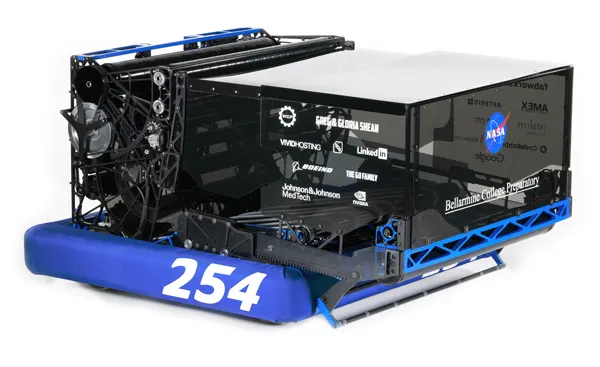robot-detect: (26, 27, 572, 325)
